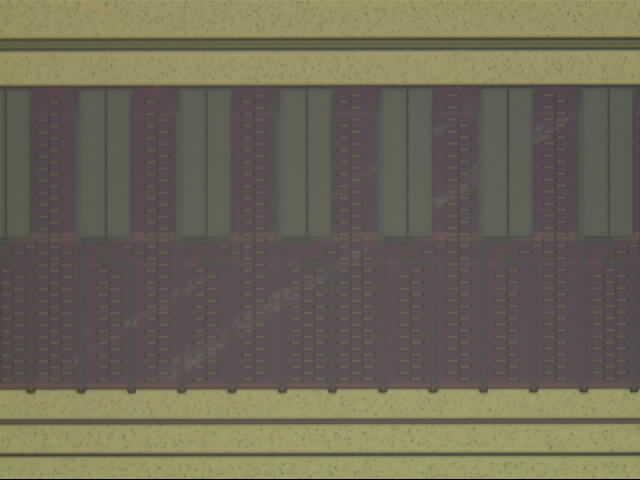SCRATCH: (33, 80, 640, 397)
